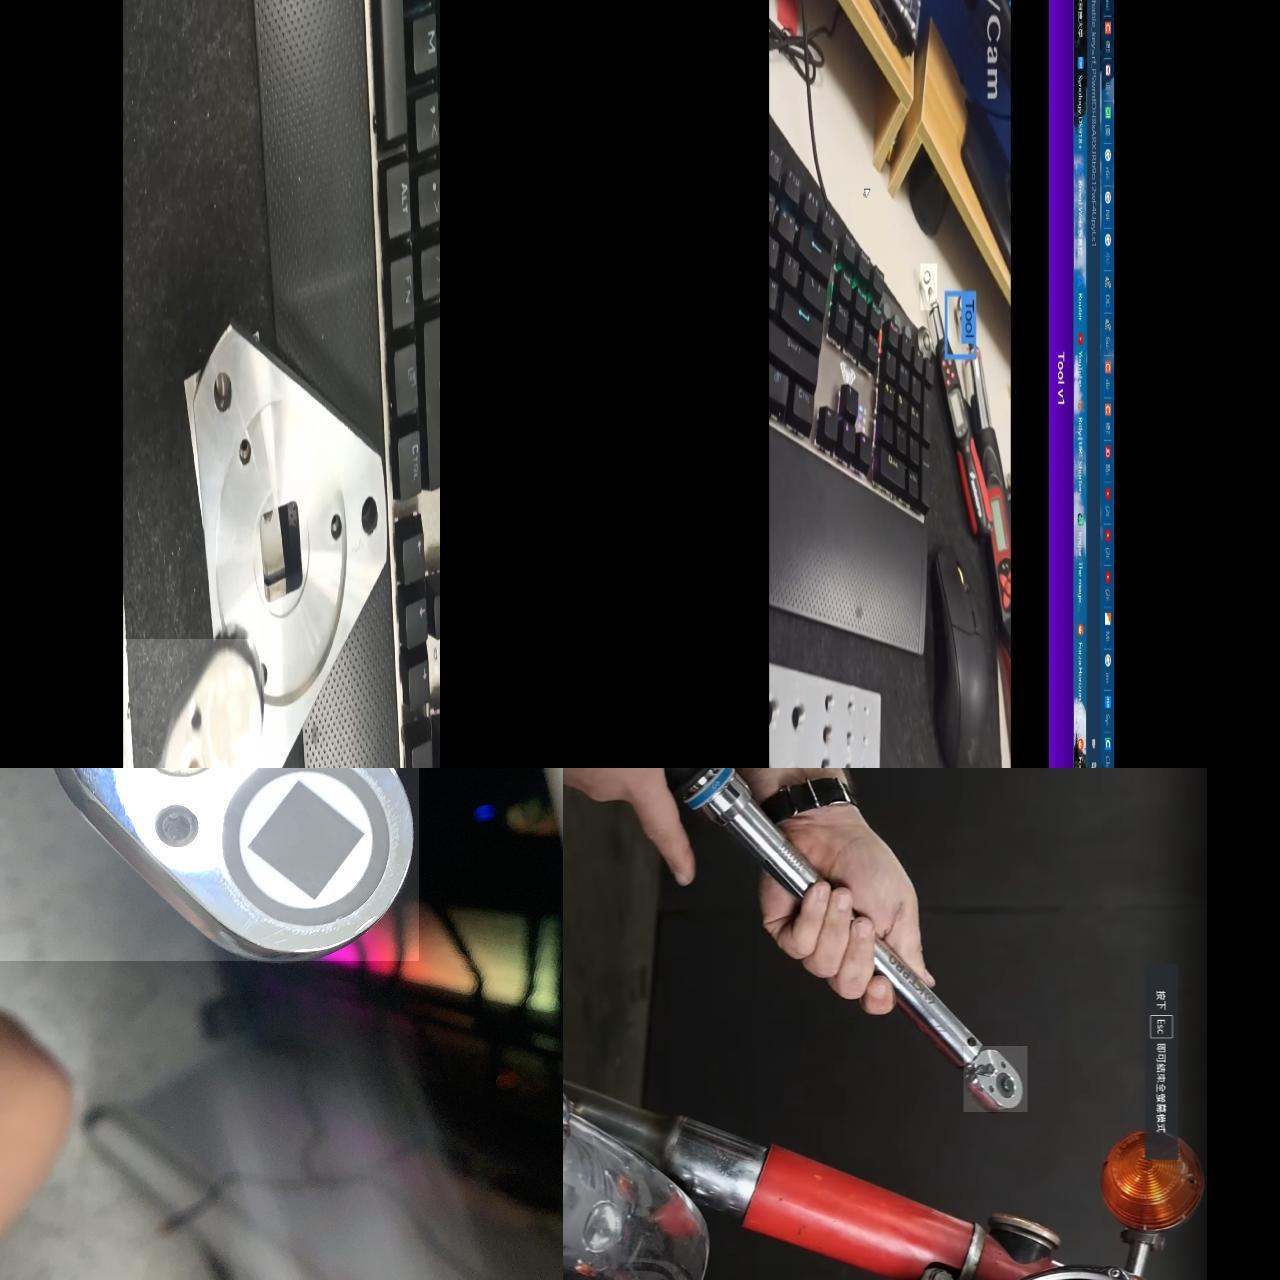Tool: (41, 767, 421, 964), (131, 635, 261, 764), (962, 1047, 1026, 1112), (924, 263, 940, 306)
hole: (356, 490, 389, 547), (209, 366, 237, 425), (232, 437, 263, 471), (326, 516, 348, 549)
